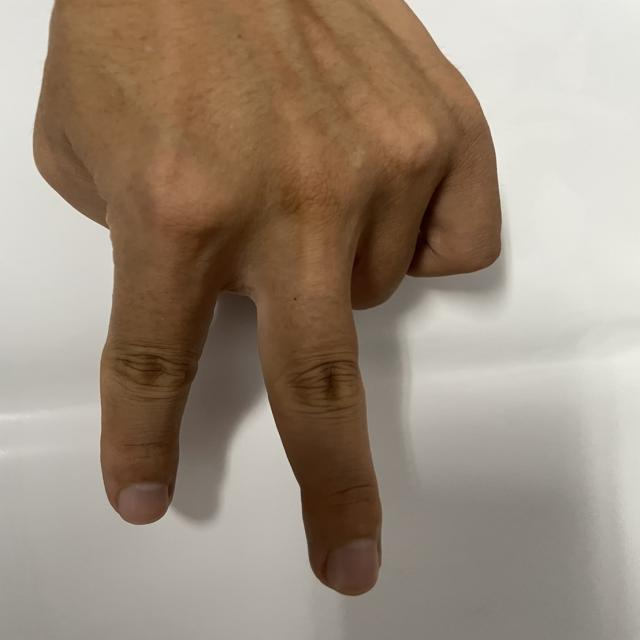Scissors: (29, 10, 583, 630)
